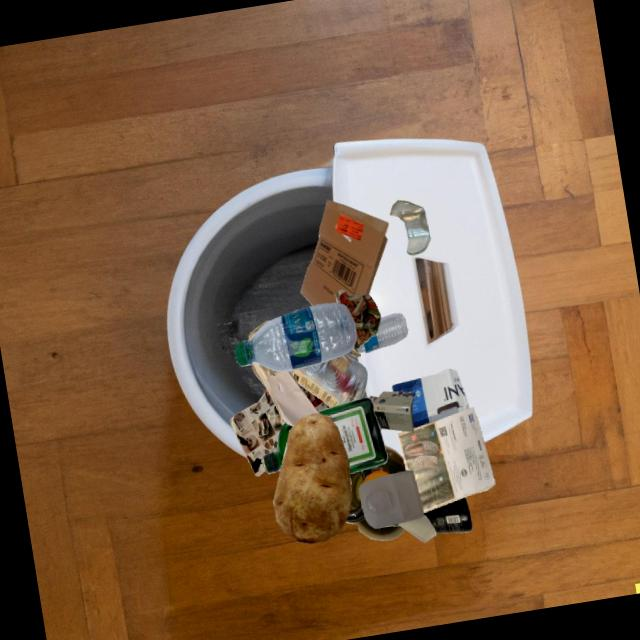biowaste: (273, 413, 352, 543)
cardboard: (300, 200, 389, 306), (392, 369, 469, 428), (373, 391, 415, 432), (373, 386, 406, 431), (397, 514, 437, 543)
glass: (345, 445, 406, 541), (318, 397, 388, 474), (390, 200, 431, 256), (423, 497, 473, 533)
paper: (398, 407, 496, 513), (229, 390, 286, 476), (252, 362, 321, 426), (335, 290, 381, 357)
plastic: (235, 302, 357, 372), (289, 354, 368, 407), (359, 470, 424, 528), (355, 313, 408, 353), (363, 476, 389, 526)
